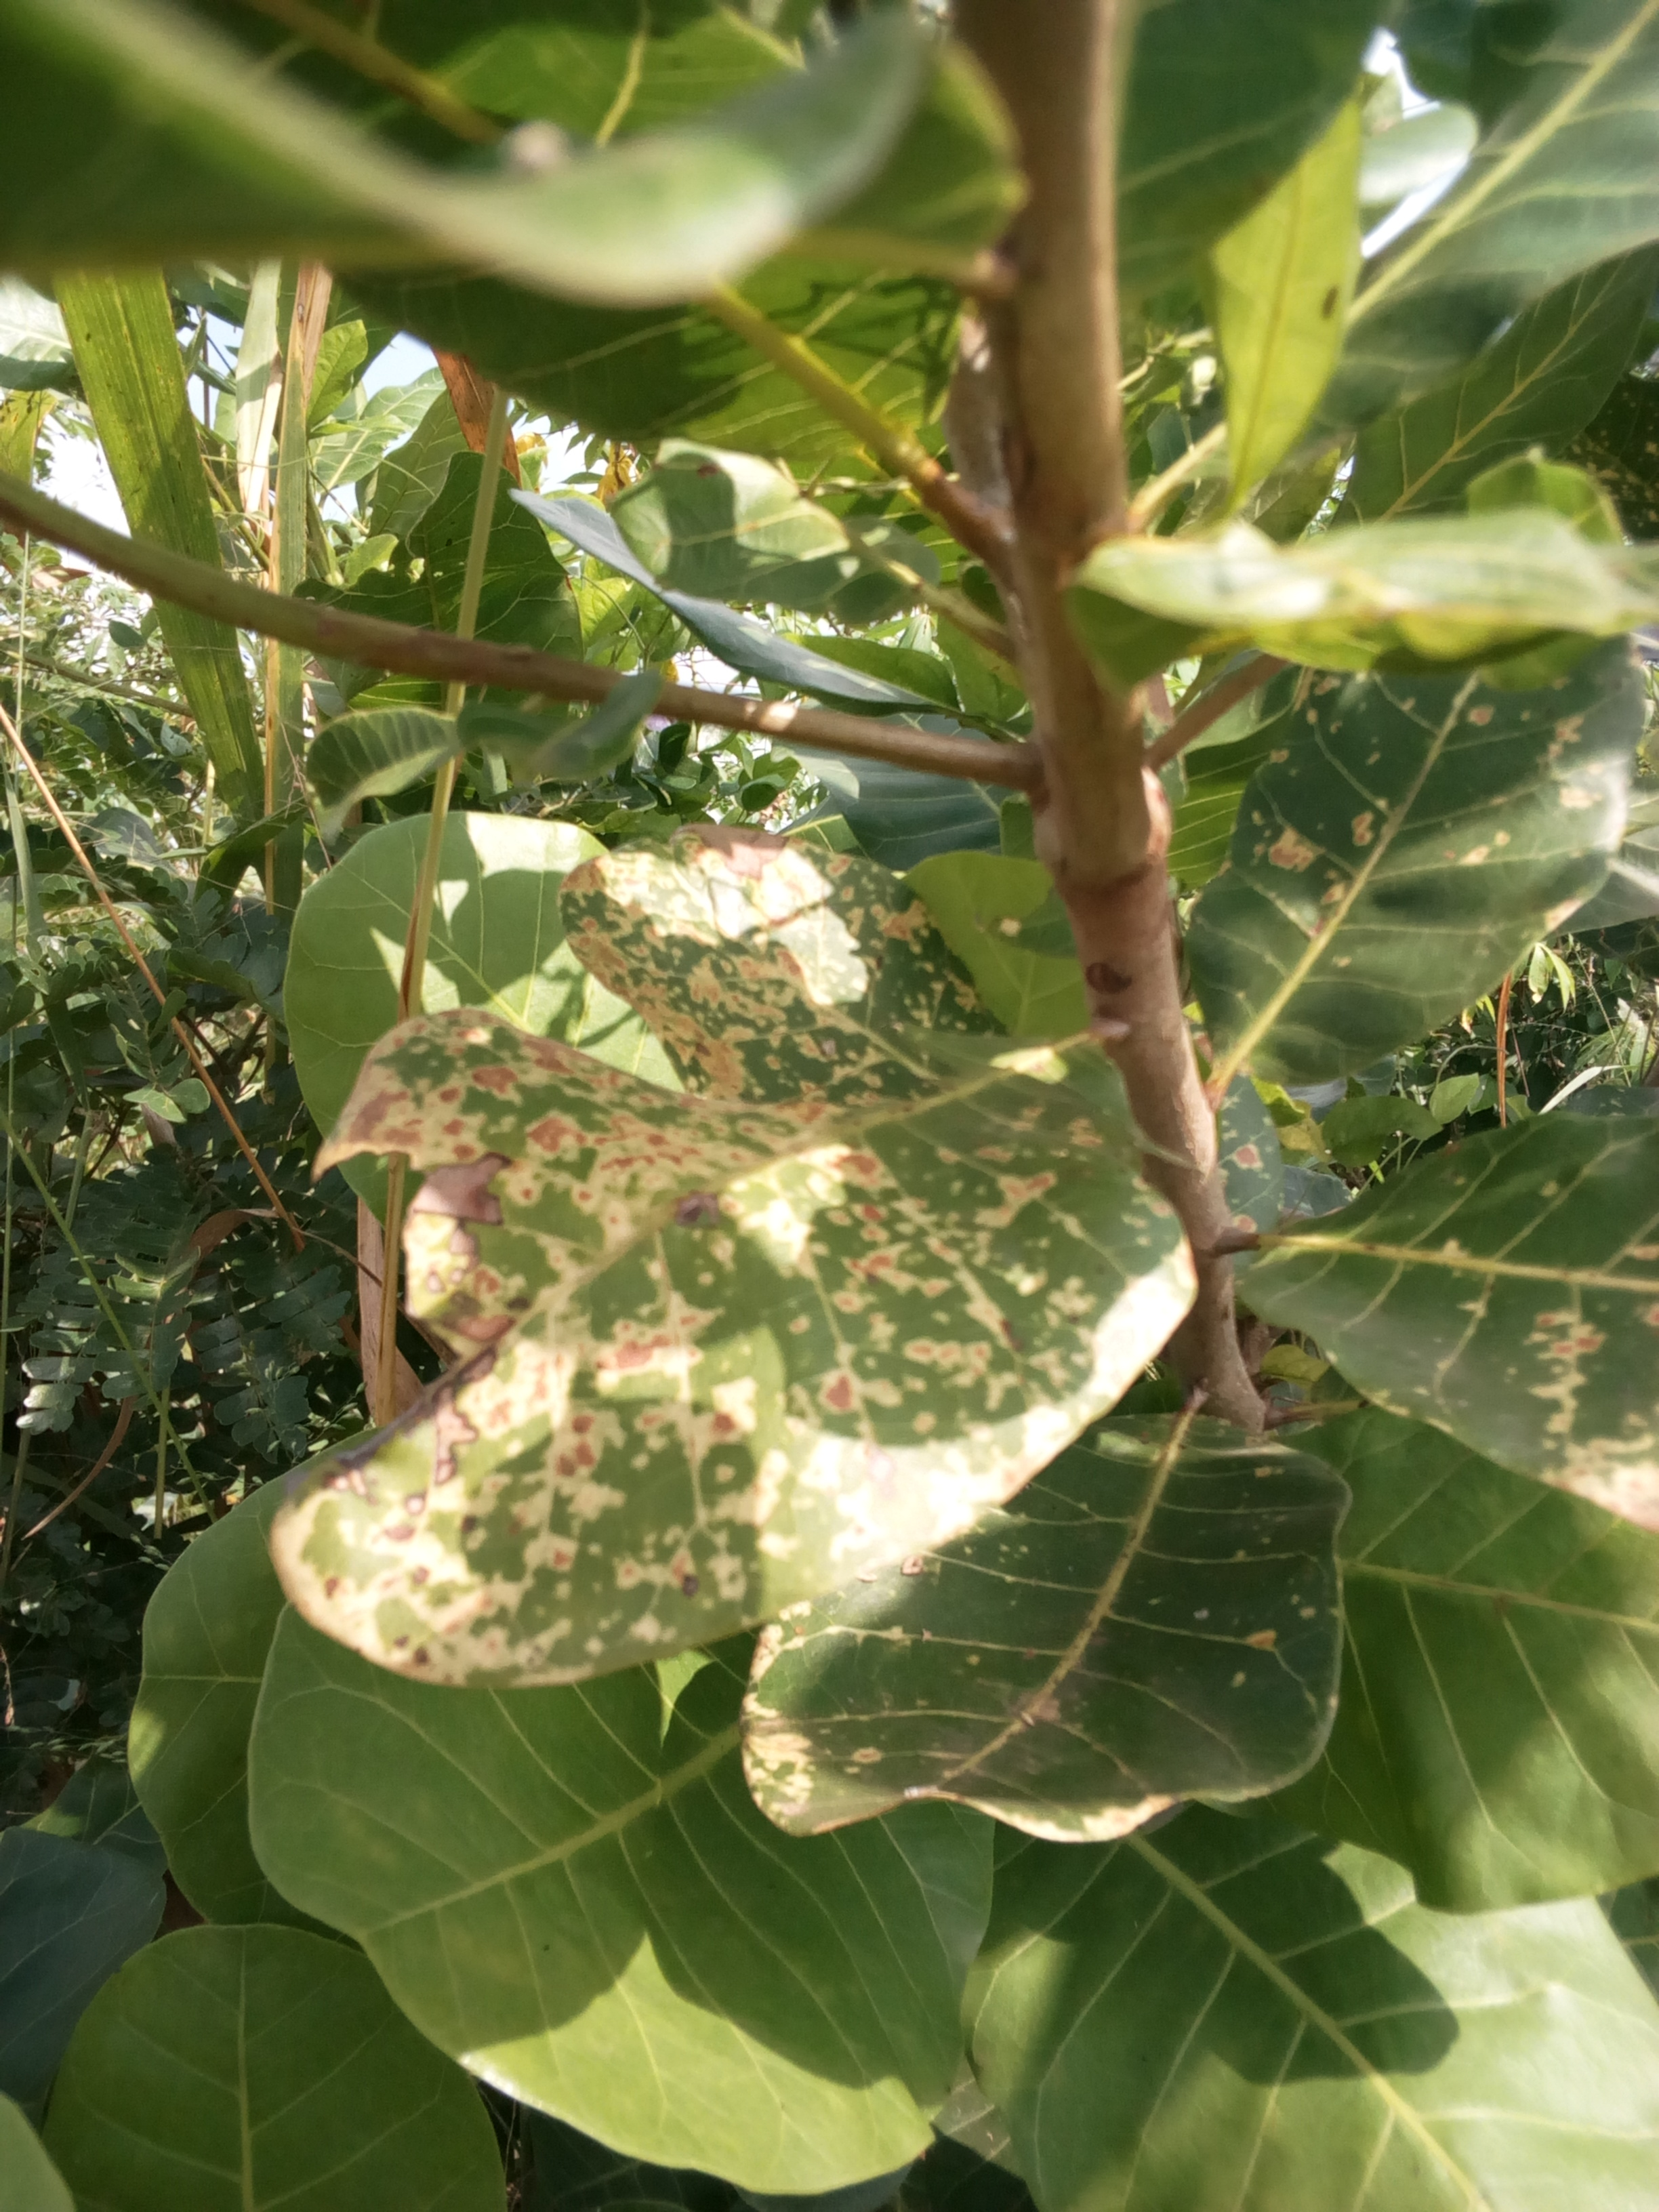Carence minérale: (237, 838, 1206, 1676), (1202, 636, 1652, 1146), (1232, 1092, 1659, 1543)
